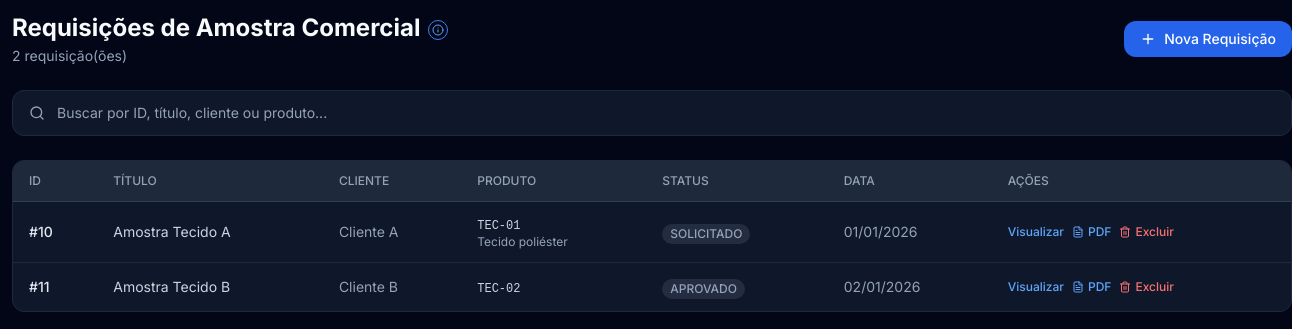
Test: ListaRequisicoesAmostraComercialPage › filtra a lista pela busca
The width and height of the screenshot is (1292, 329).
Expected: the text "Amostra Tecido A" is shown, [97, 202, 323, 262]
Type "cliente a" into the field with placeholder "Buscar por ID, título, cliente ou produto..." at (666, 113), box [57, 103, 1275, 123]
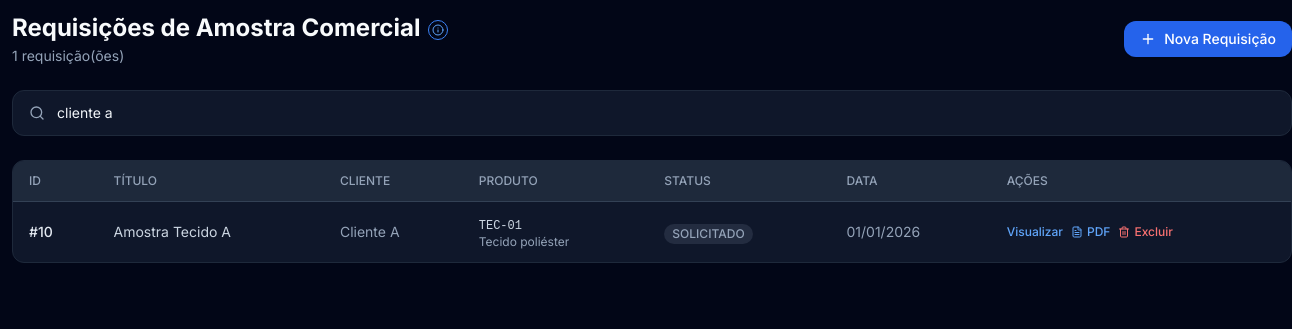
Expected: the text "Amostra Tecido A" is shown, [98, 202, 324, 262]
Now the text "Amostra Tecido B" is gone
